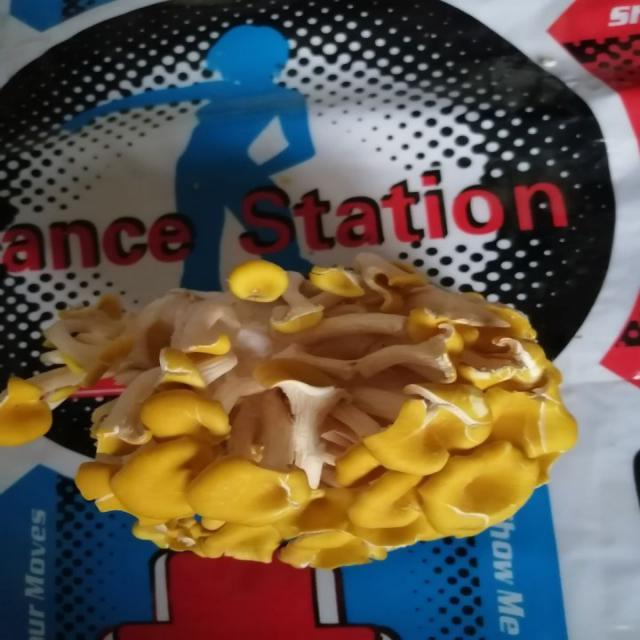Pleurotus citrinopileatus: (4, 260, 580, 568)
